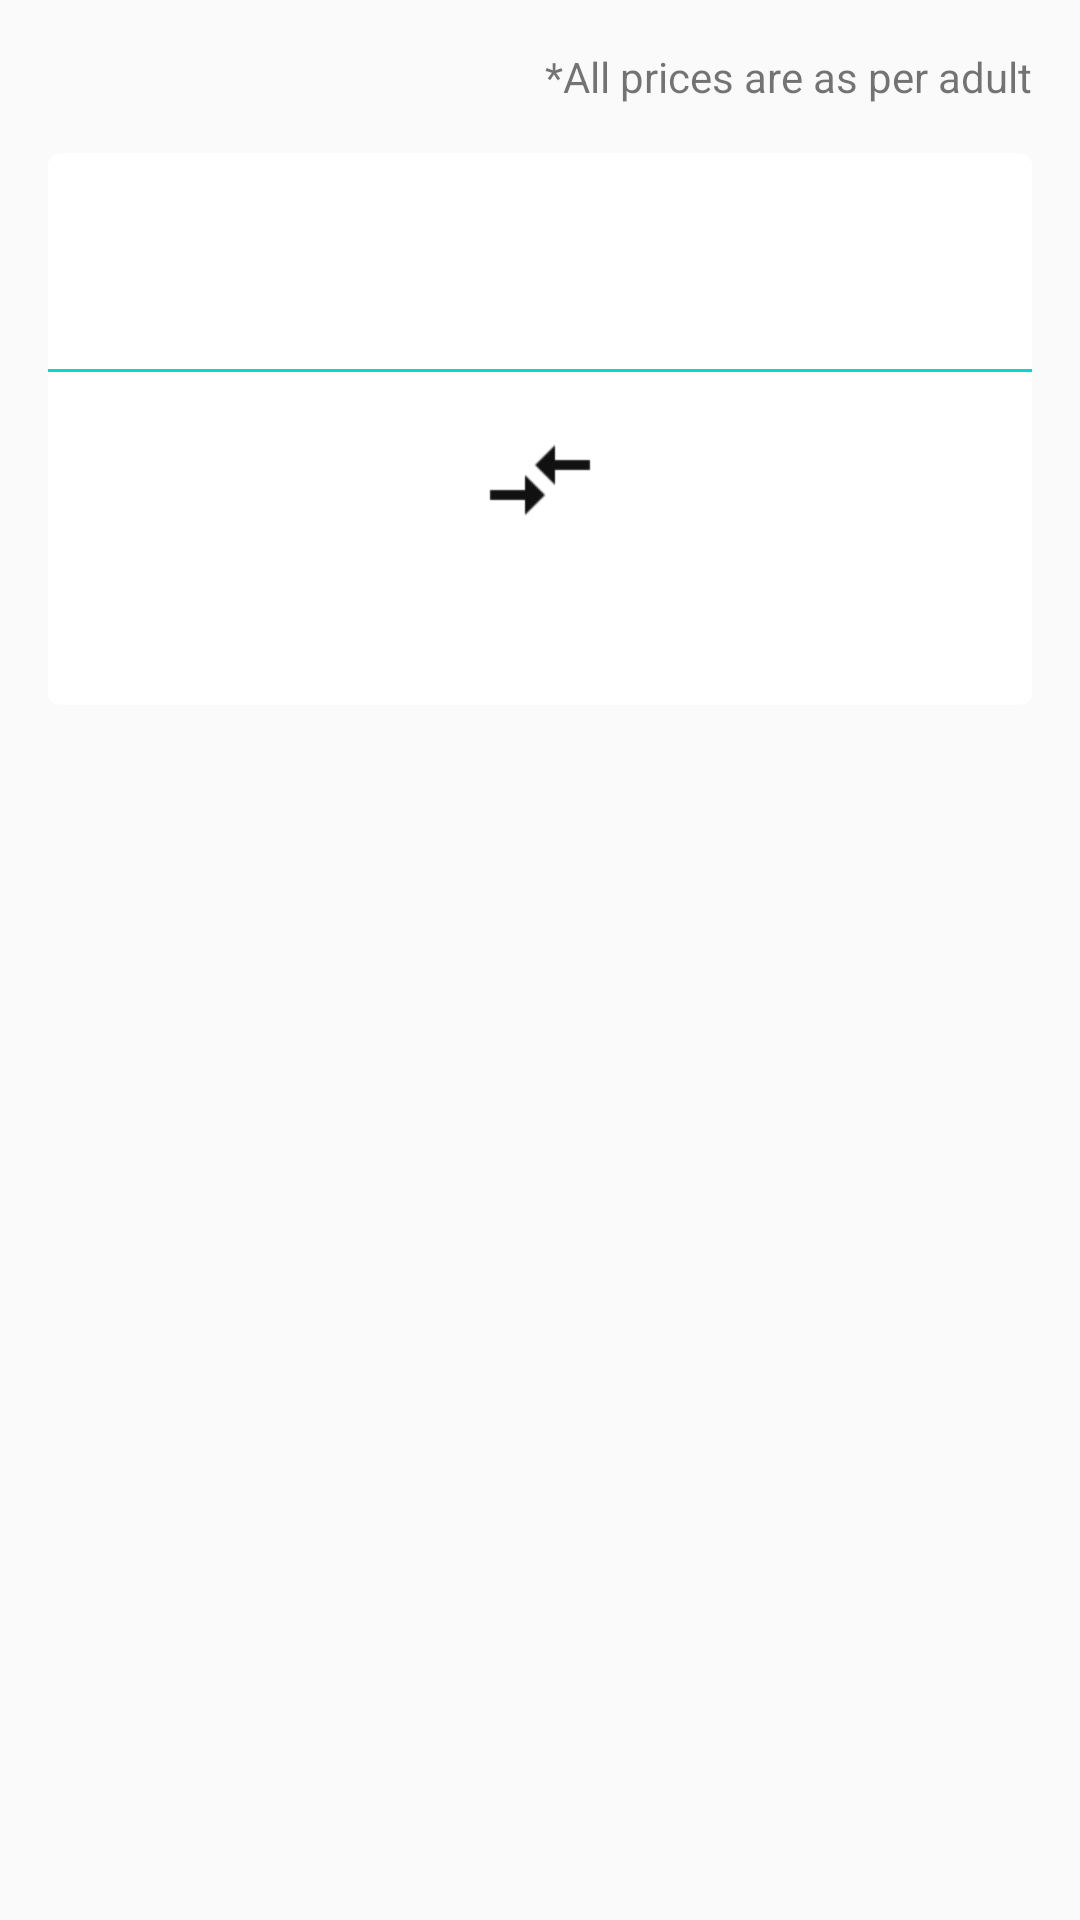

Icons on this 1080px x 1920px Android screen, each with its box as bbox=[x1, y1, x2, y2]:
compare arrows: bbox=[489, 445, 591, 515]
